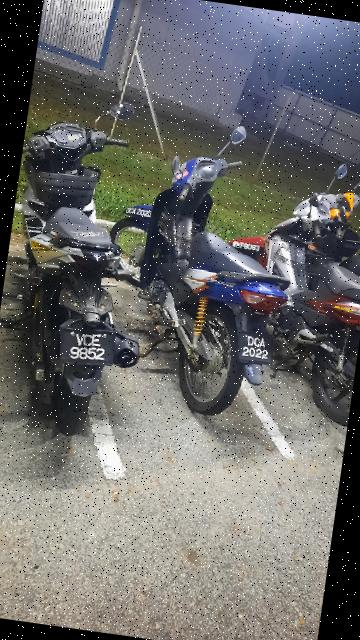License_Plate: (49, 322, 122, 375), (229, 328, 293, 374)
motorcycle: (99, 99, 315, 431), (1, 86, 163, 441)
